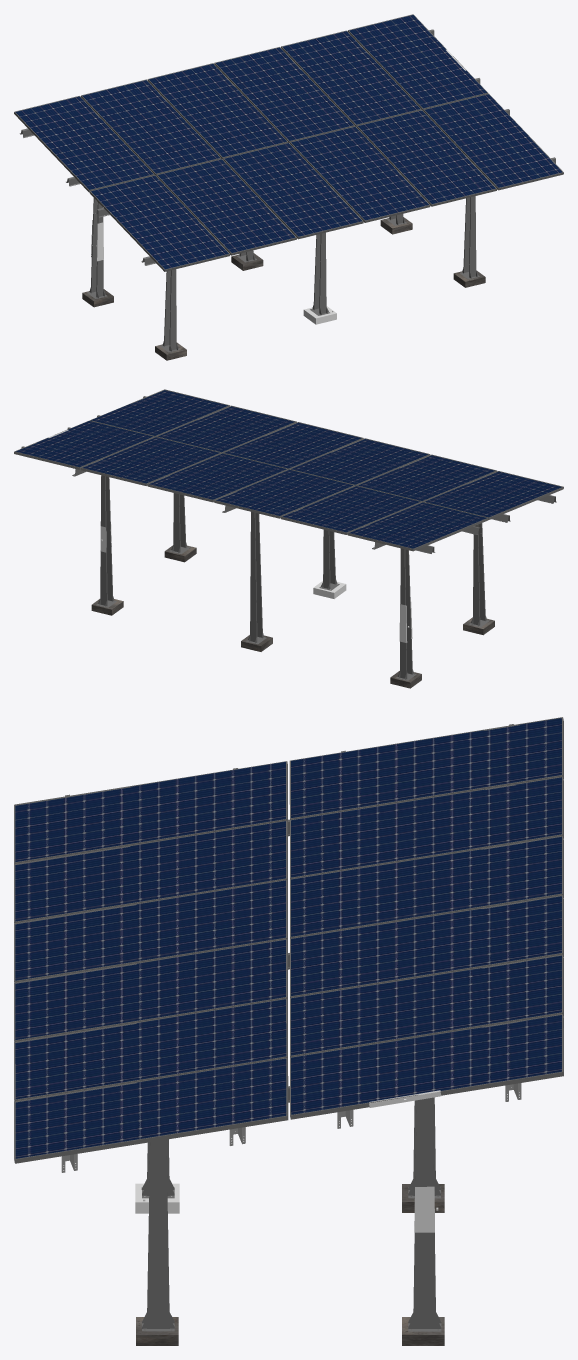
The picture shows the model from 3 angles, top to bottom: view 1: azimuth 30°, elevation 25°; view 2: azimuth 150°, elevation 25°; view 3: azimuth 270°, elevation 25°; orthographic projection. The views are drawn at different scales.
Visible parts, largest first — view 1: correct.002_Baked, correct_Baked, base_Baked; view 2: correct.002_Baked, correct_Baked, base_Baked; view 3: correct.002_Baked, correct_Baked, base_Baked, highlight_1.
Boxes of the visible parts, x1,y1,x2,y2 form: correct.002_Baked: (15, 15, 562, 269); correct_Baked: (14, 14, 563, 352); base_Baked: (82, 217, 485, 360); correct.002_Baked: (16, 390, 561, 548); correct_Baked: (14, 389, 563, 680); base_Baked: (91, 545, 494, 688); correct.002_Baked: (15, 718, 561, 1158); correct_Baked: (14, 717, 563, 1331); base_Baked: (136, 1184, 444, 1345); highlight_1: (414, 1186, 434, 1232).
Size of the model in its own units: 7.11 by 2.84 by 4.51.
Materials: 3 (2 with a texture image).
